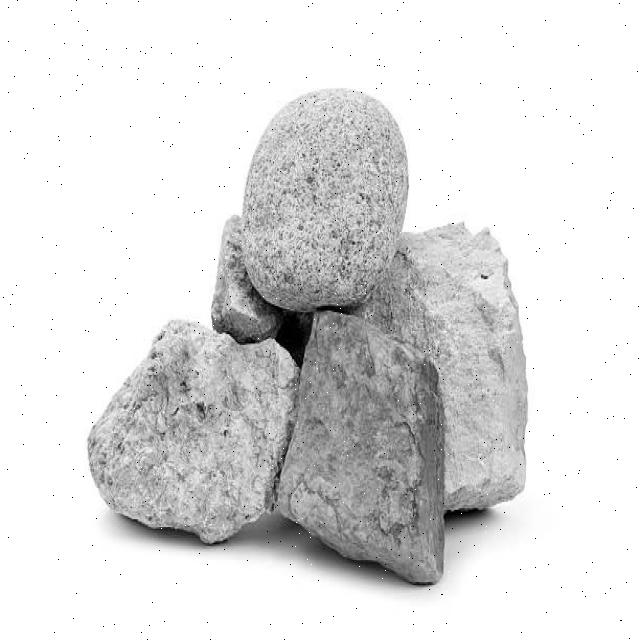Sedimentary: (87, 73, 554, 594)
